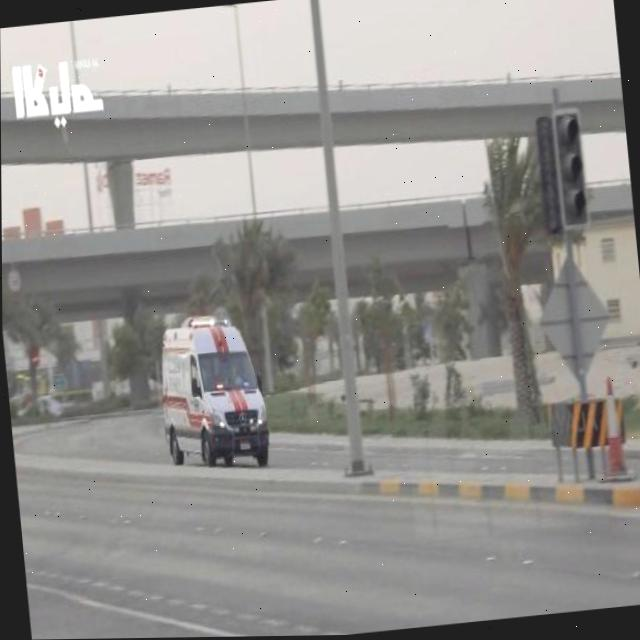emergency: (149, 301, 277, 484)
